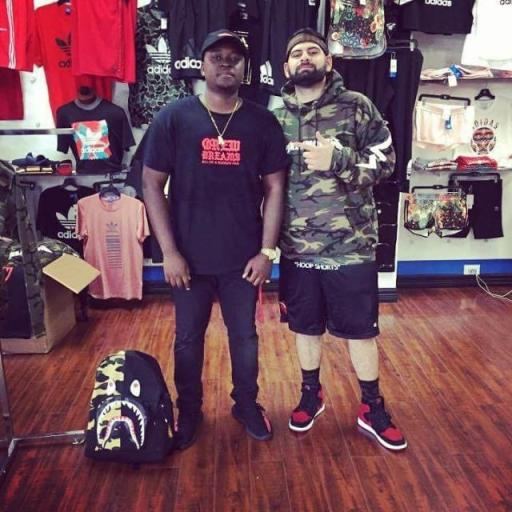Adidas: (142, 32, 172, 78), (53, 205, 81, 241), (255, 58, 278, 86)
